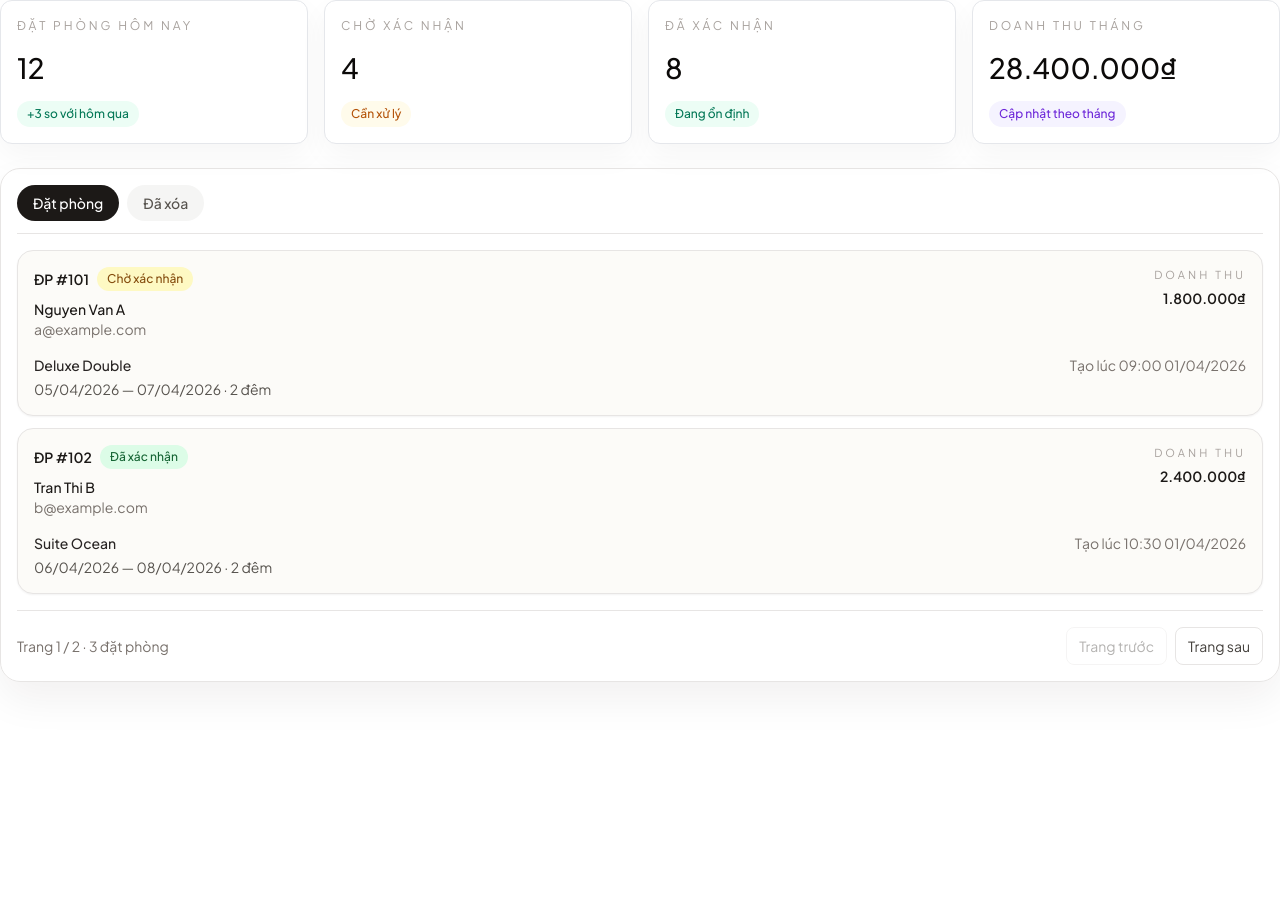
Test case: AdminDashboard › gives moderators a read-only trashed tab but no contacts tab or actions
This screenshot has width=1280, height=900.
Expected: the link "ĐP #101" is shown, [34,269,89,289]
Expected: the tab "Đặt phòng" is shown, [17,185,119,221]
Note: The trashed view is read-only for moderators: no restore / force-delete actions.
Click the tab "Đã xóa": (166, 203) [127,185,204,221]
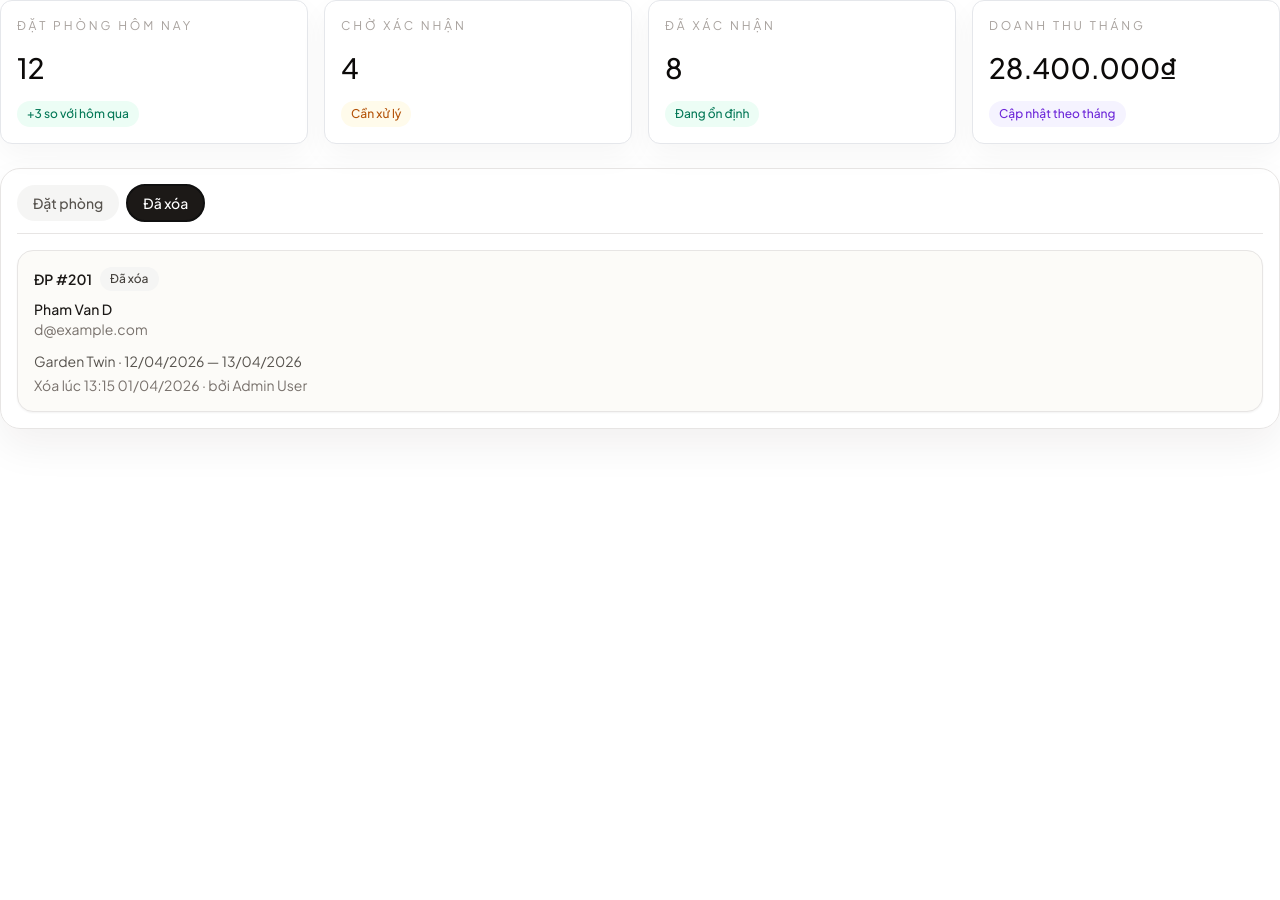
Result: the text "Pham Van D" is shown at [34,300,112,318]
